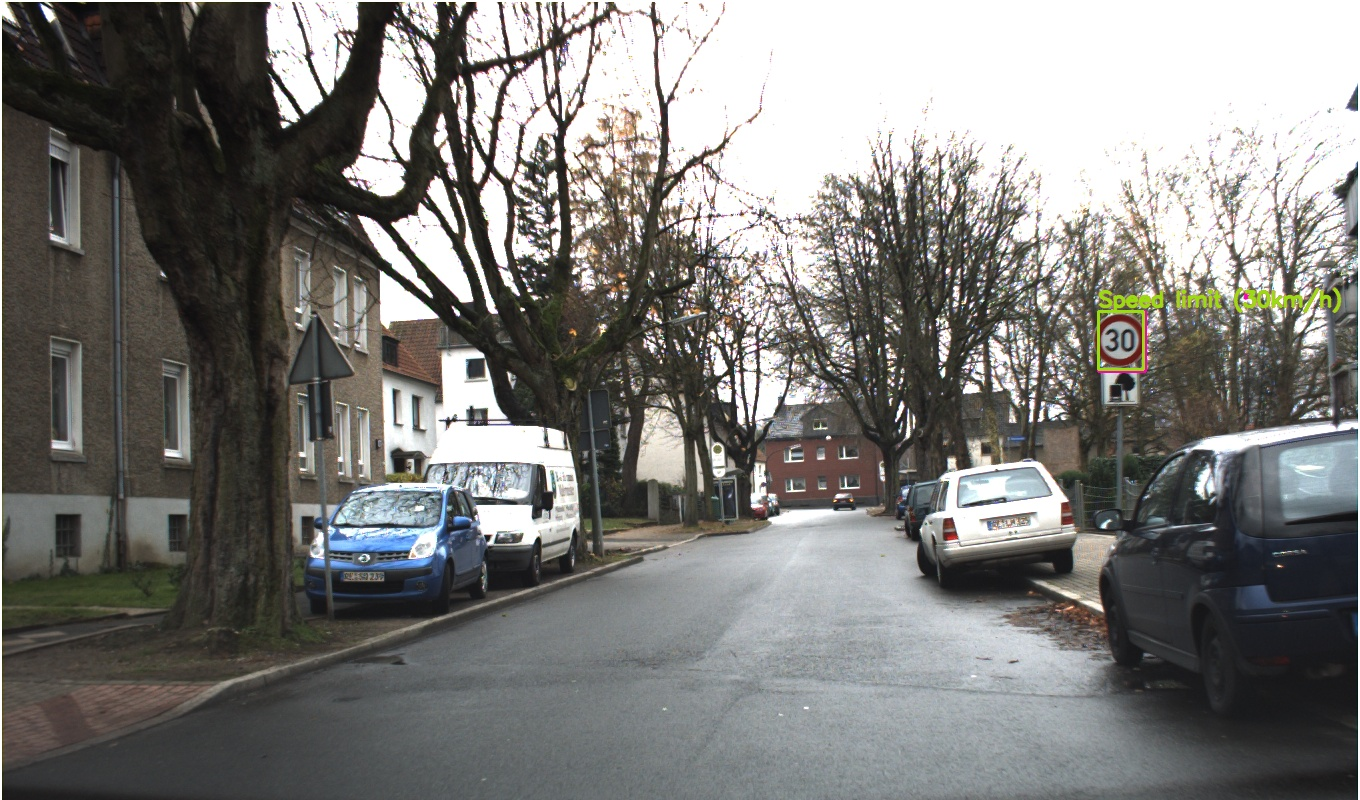Keep right: (116, 425, 208, 520)
